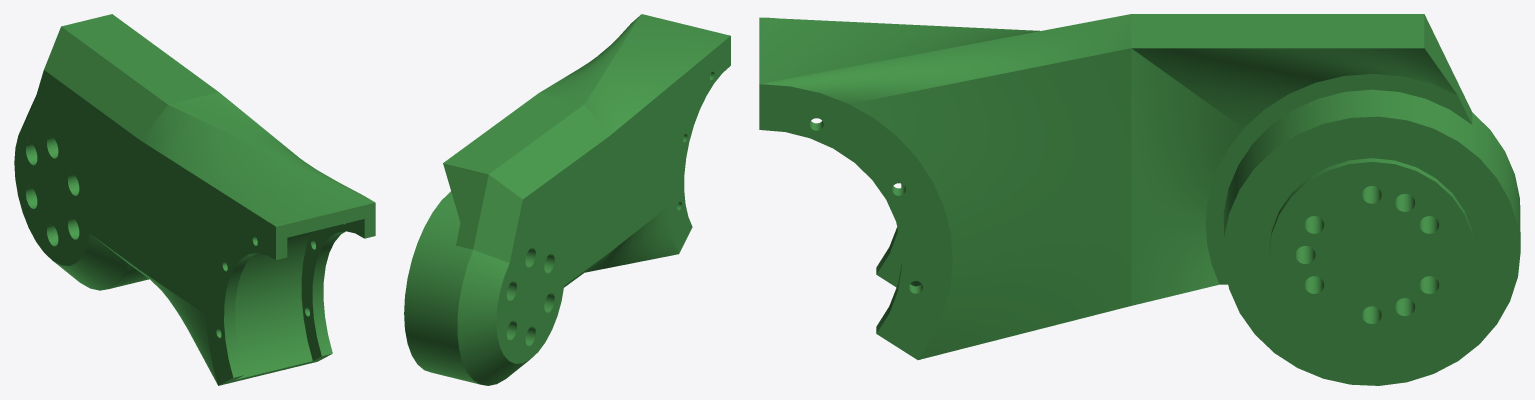
Rendered from LowerLegRight.dae.
The picture shows the model from 3 angles, left to right: view 1: azimuth 30°, elevation 25°; view 2: azimuth 150°, elevation 25°; view 3: azimuth 270°, elevation 25°; orthographic projection. The views are drawn at different scales.
Parts seen in each view (by area): view 1: LowerLegRight; view 2: LowerLegRight; view 3: LowerLegRight.
Part boxes in pixels (x1=…): LowerLegRight: x1=14, y1=14, x2=375, y2=385; LowerLegRight: x1=404, y1=14, x2=730, y2=385; LowerLegRight: x1=759, y1=14, x2=1520, y2=385.
Bounding box in the file's own units: 0.036 × 0.174 × 0.0838.
